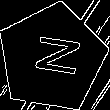N_W: (24, 34, 80, 82)
